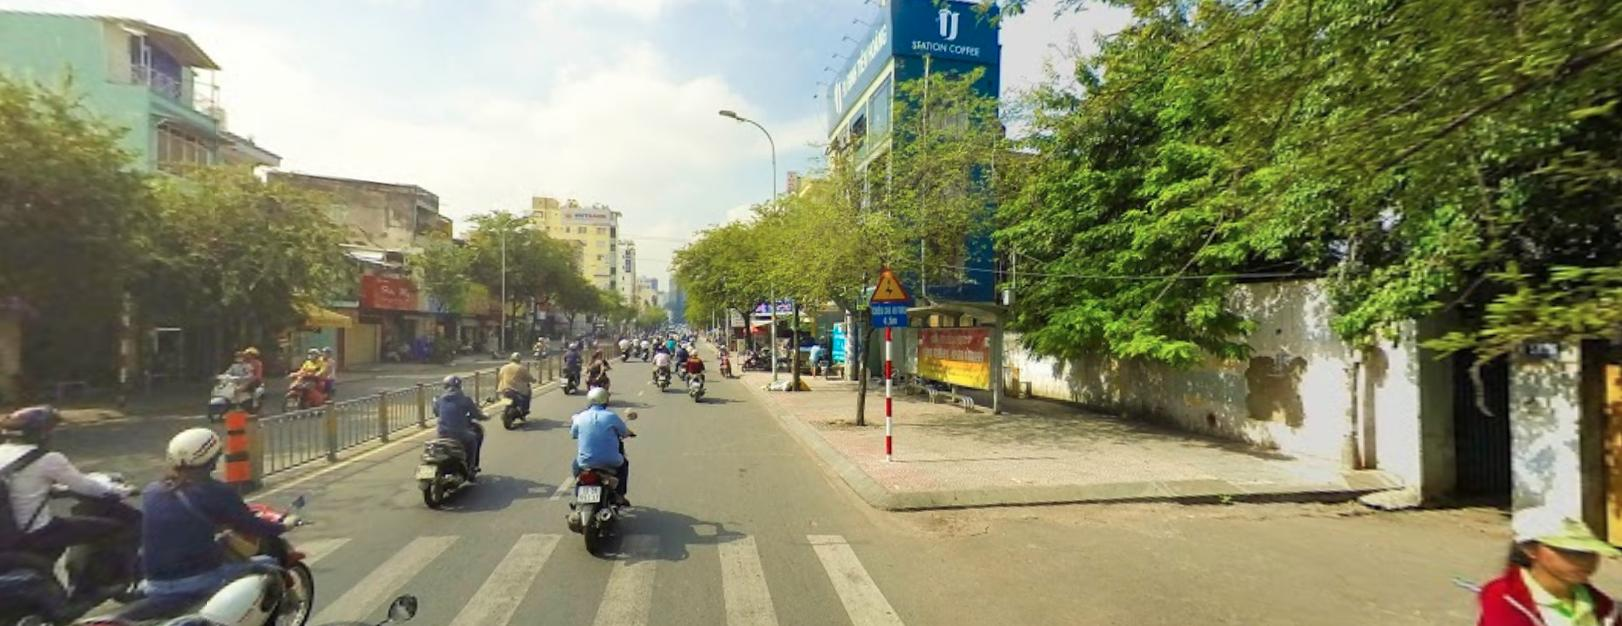Nguy hiem: (868, 265, 909, 299)
